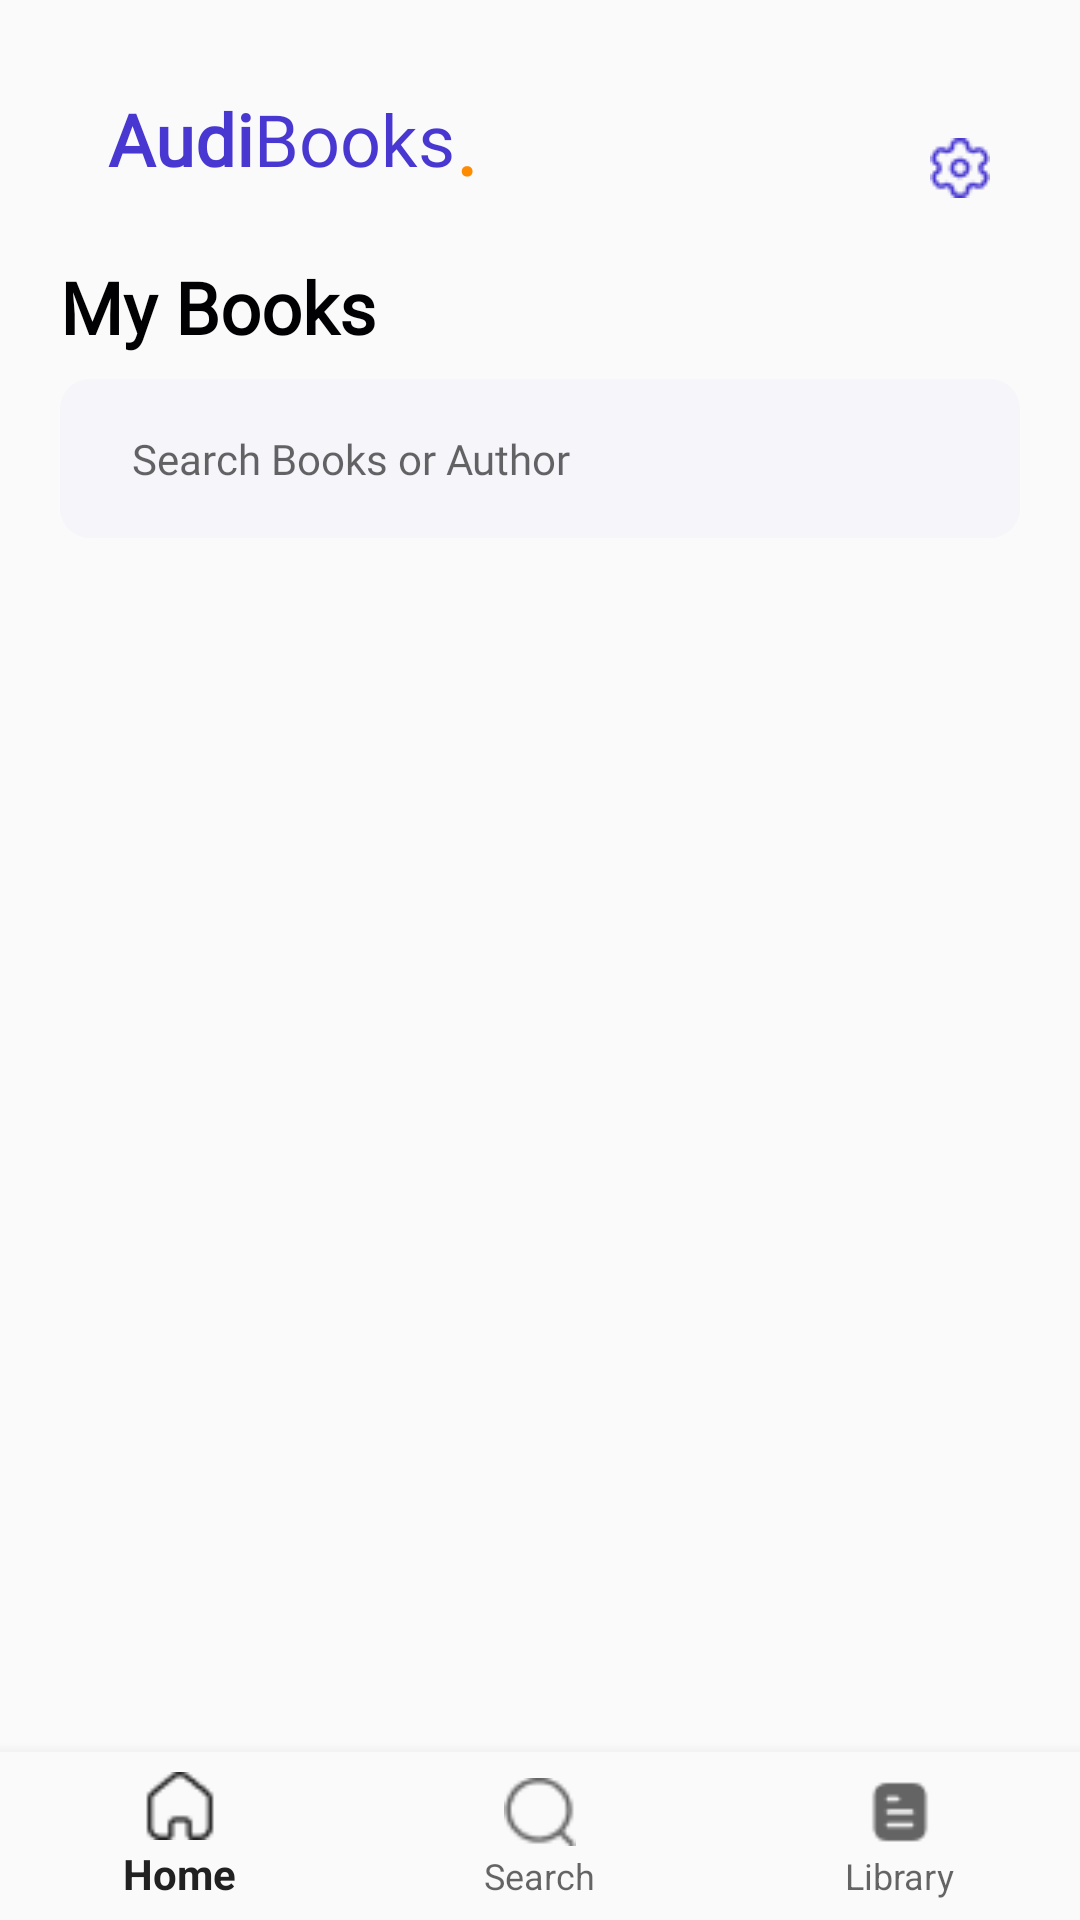

Where icons sit on this 1080 x 1920 app screen, as box=[x1, y1, x2, y2]:
setting: box=[930, 138, 990, 198]
